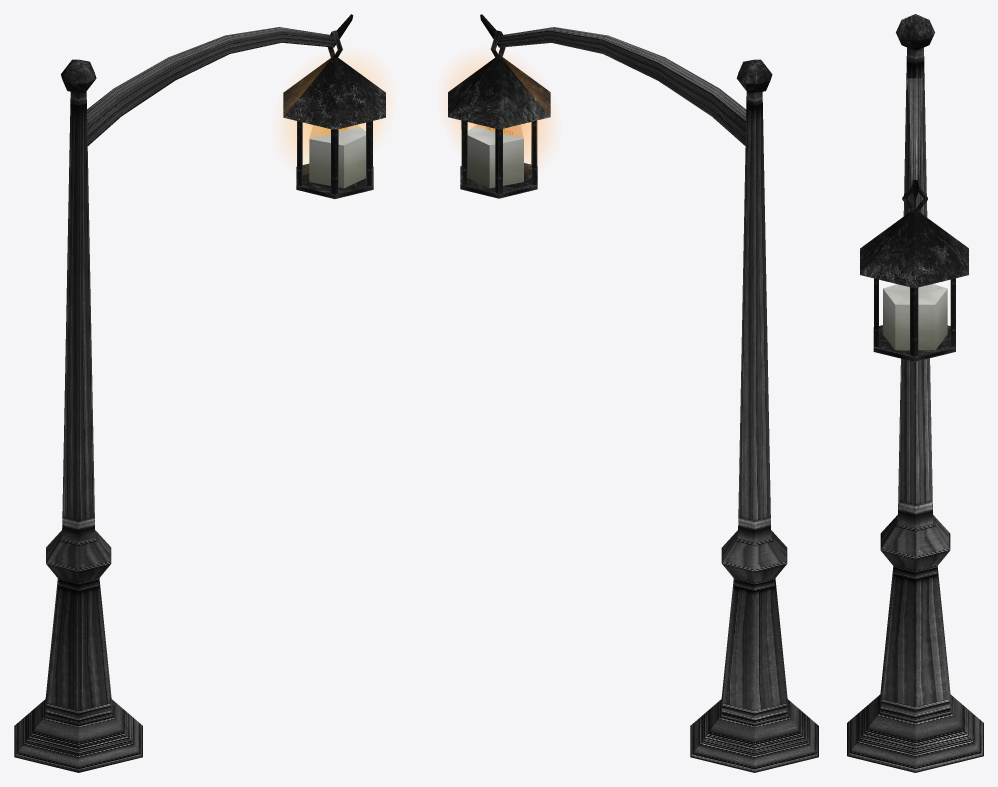
Rendered from mm9_deco_lamppost2.glb.
The picture shows the model from 3 angles, left to right: view 1: azimuth 30°, elevation 25°; view 2: azimuth 150°, elevation 25°; view 3: azimuth 270°, elevation 25°; orthographic projection. The views are drawn at different scales.
Visible parts, largest first — view 1: Lamppost2; view 2: Lamppost2; view 3: Lamppost2.
Boxes of the visible parts, box(x1,y1,x2,y2) form: Lamppost2: box(14, 14, 385, 772); Lamppost2: box(448, 14, 818, 772); Lamppost2: box(847, 14, 983, 772).
Bounding box in the file's own units: 2.55 × 4.28 × 0.7312.
Materials: 4 (4 with a texture image).
